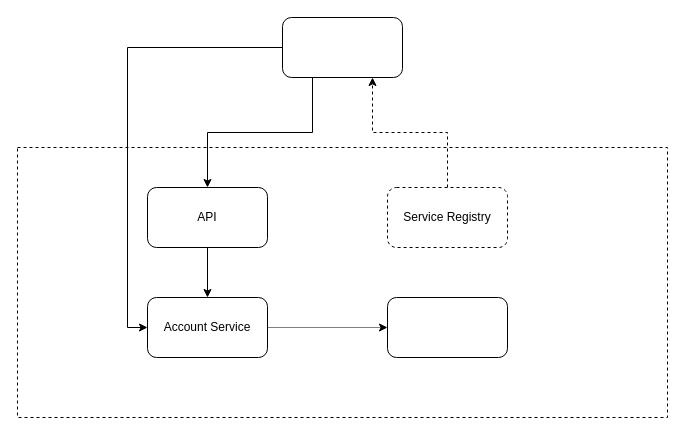
This 685x435 diagram has some shape labels left out. The centre of each missing label's shape, as x and y in pixels:
"Emailer" belongs at (447,327).
"Micro Gateway" belongs at (342,47).
